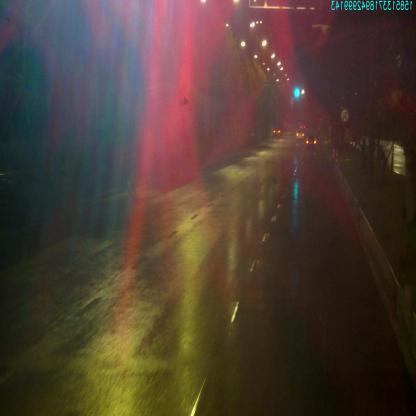traffic-light: (291, 84, 302, 102)
